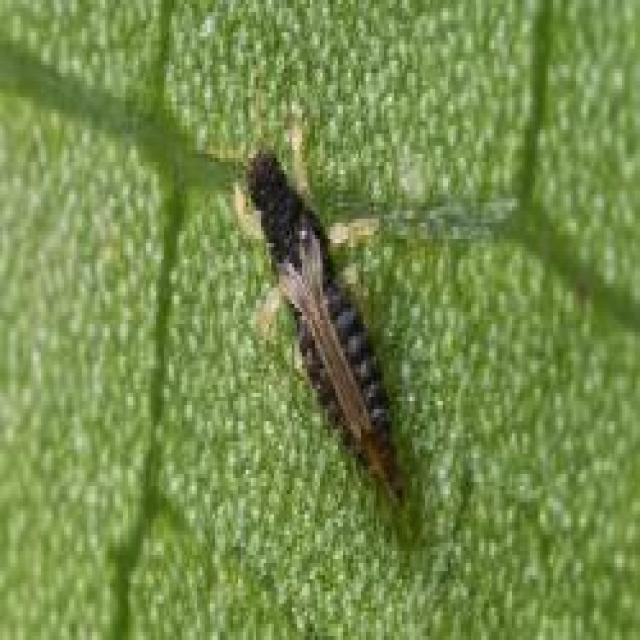Thrip-Adult-: (244, 136, 432, 528)
